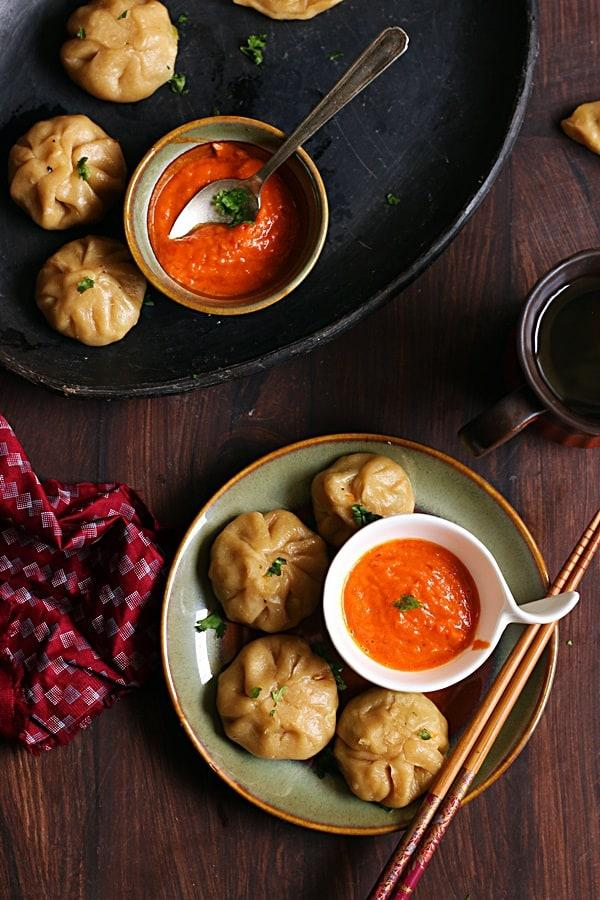momos: (216, 635, 339, 758), (209, 512, 329, 633), (334, 687, 448, 808), (9, 114, 127, 229), (35, 236, 146, 346), (62, 0, 179, 102), (311, 454, 415, 548)
